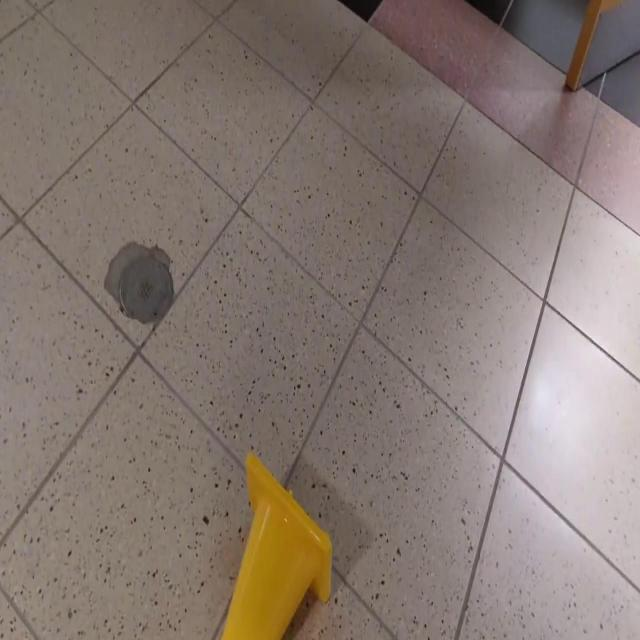frc_cone: (220, 451, 333, 640)
